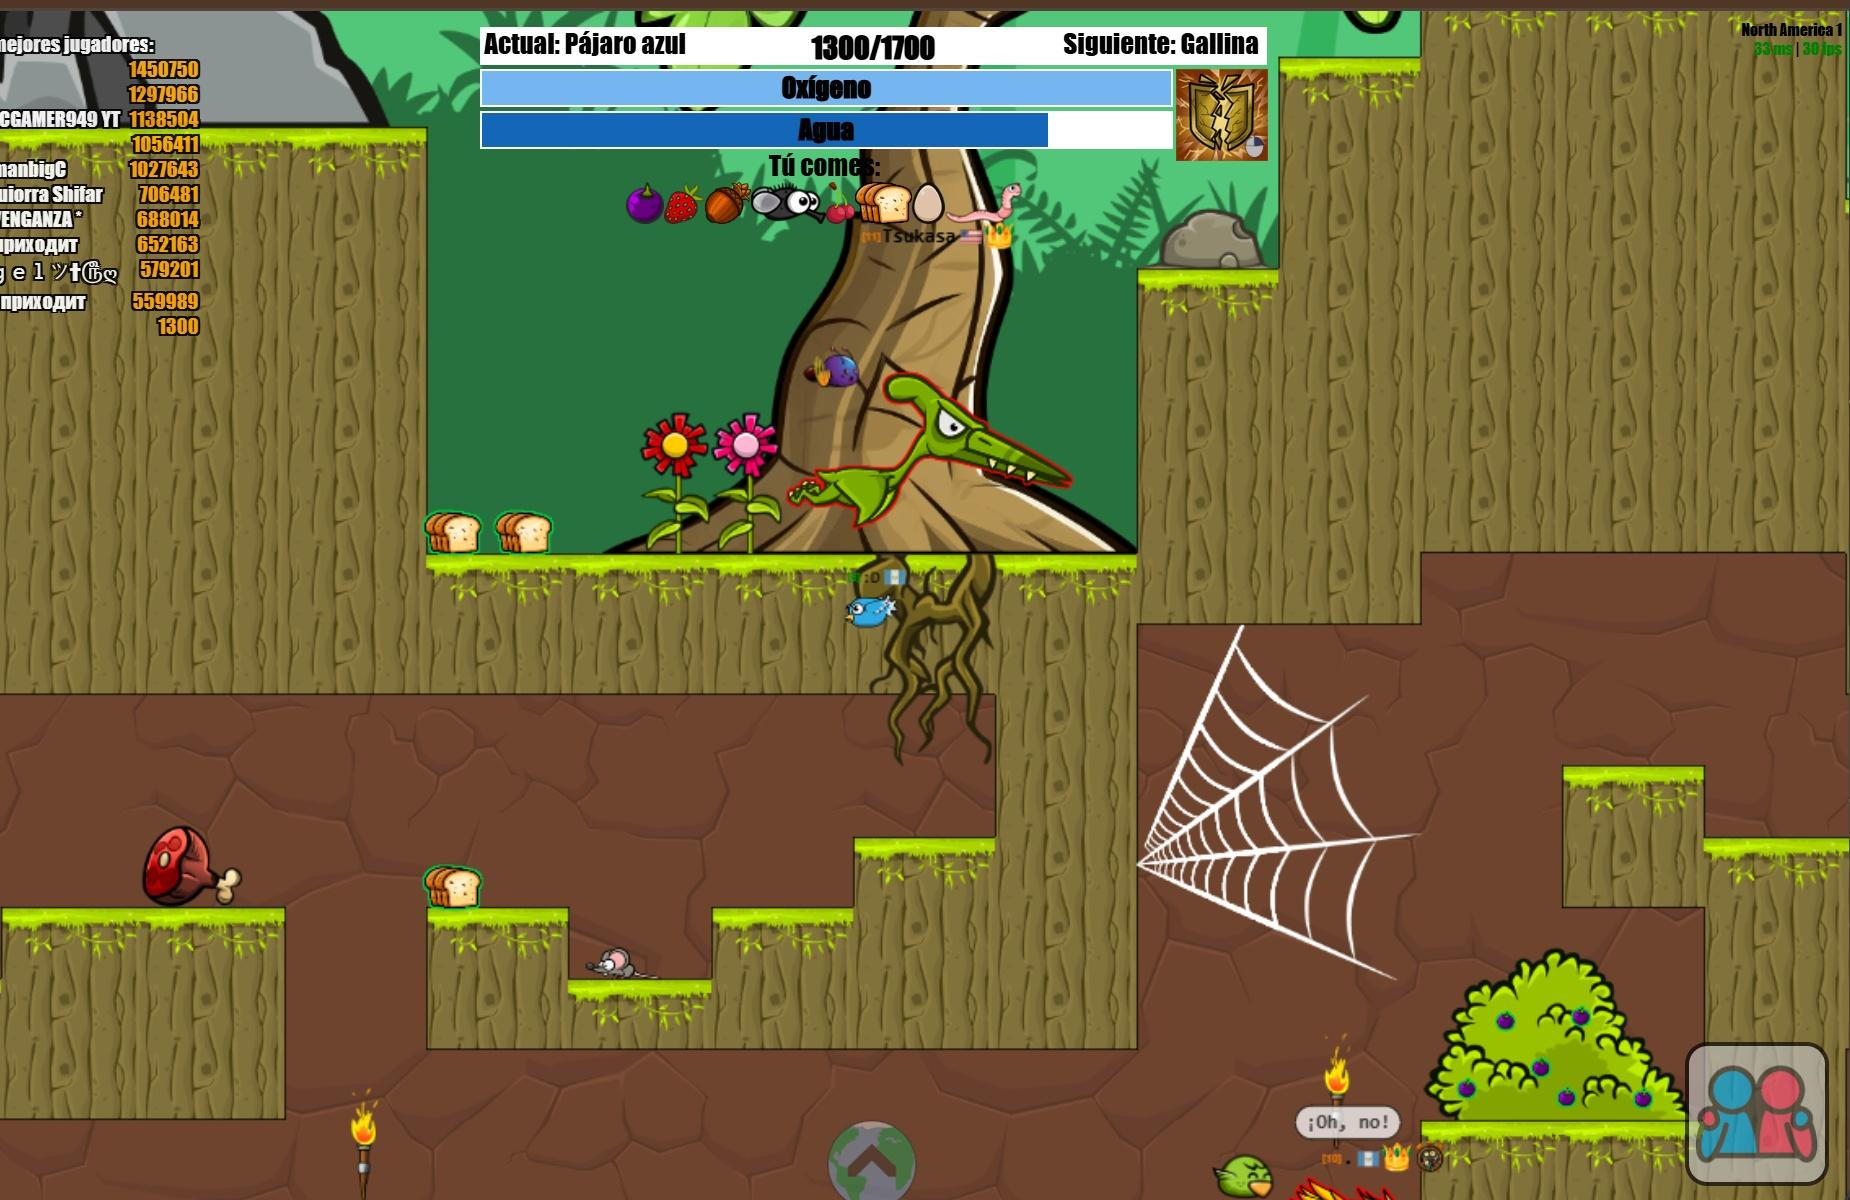antorcha: (349, 1100, 380, 1153)
arandano: (627, 183, 663, 222), (1632, 1087, 1653, 1108), (1529, 1057, 1551, 1079), (1455, 1077, 1476, 1098), (1572, 1007, 1591, 1030), (1557, 1087, 1576, 1107), (1495, 1011, 1514, 1030)
arbusto: (1427, 951, 1681, 1120)
avellana: (704, 183, 750, 222)
carne: (144, 825, 241, 905)
flor: (642, 413, 708, 479), (715, 413, 777, 480)
fresa: (663, 191, 697, 222)
guinda: (823, 183, 856, 222)
gusano: (947, 183, 1021, 222)
huevo: (913, 183, 943, 222)
mascota: (1215, 1154, 1272, 1199), (805, 349, 860, 387)
mosca: (751, 185, 825, 221)
p_azul: (1834, 1046, 1849, 1199), (847, 595, 895, 628)
pan: (856, 183, 912, 224)
pterodactilo: (787, 371, 1072, 527)
raiz: (885, 556, 994, 763)
raton: (587, 947, 657, 978)
tela: (1138, 626, 1419, 979)
